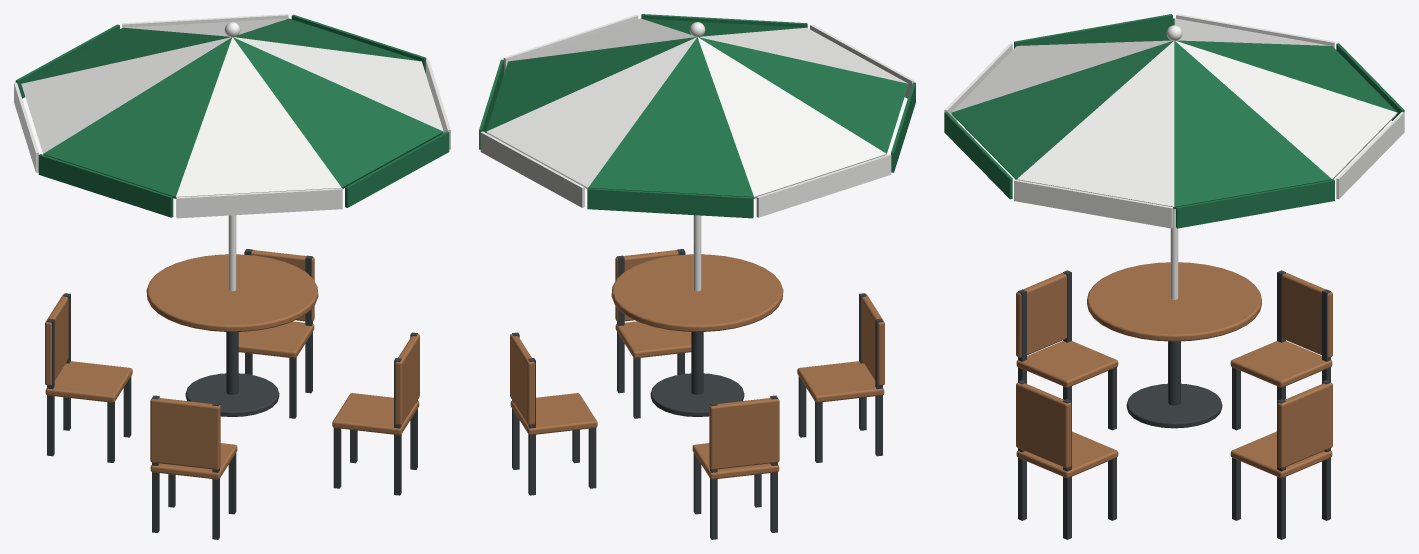
Rendered from TerasMasasi.fbx.
3 renders of one model, left to right at view 1: azimuth 30°, elevation 25°; view 2: azimuth 150°, elevation 25°; view 3: azimuth 270°, elevation 25°, orthographic. The views are drawn at different scales.
Parts seen in each view (by area): view 1: TerasMasasi_Model; view 2: TerasMasasi_Model; view 3: TerasMasasi_Model.
Part boxes in pixels (box(x1,y1,x2,y2)): TerasMasasi_Model: box(14, 14, 450, 539); TerasMasasi_Model: box(479, 14, 915, 539); TerasMasasi_Model: box(944, 14, 1404, 539).
Size of the model in its own units: 2.89 by 3.1 by 2.89.
